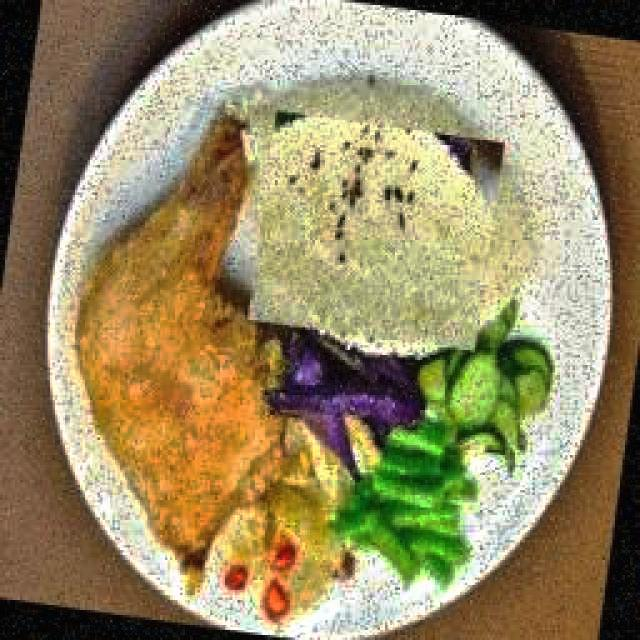fried_chicken: (75, 130, 280, 576)
rice: (254, 135, 488, 329), (286, 79, 460, 148), (485, 176, 532, 311)
water_spinach: (344, 428, 480, 578)
